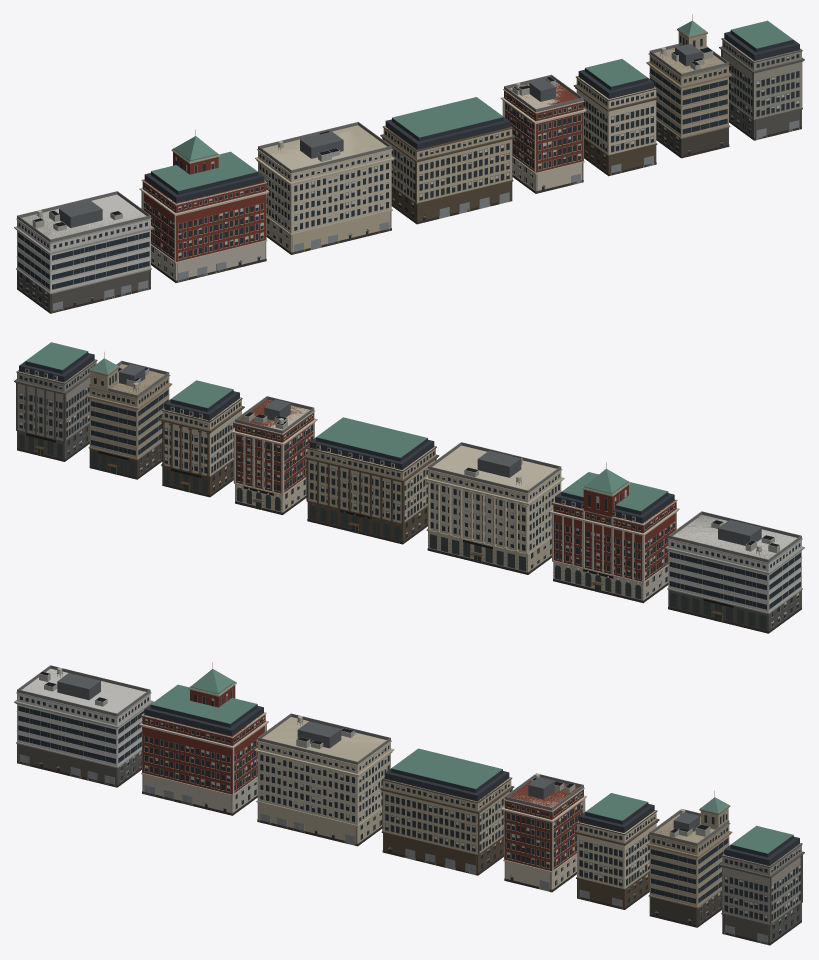
The model's file is tokei.glb.
3 views of the same model, one above another, from view 1: azimuth 30°, elevation 25°; view 2: azimuth 150°, elevation 25°; view 3: azimuth 330°, elevation 25° (orthographic).
Parts seen in each view (by area): view 1: tokei_life_body, tokei_railhq_body, tokei_post_body, tokei_chamber_body, tokei_tk_c_body, tokei_tk_d_body, tokei_tk_a_body, tokei_tk_b_body; view 2: tokei_life_body, tokei_railhq_body, tokei_post_body, tokei_chamber_body, tokei_tk_c_body, tokei_tk_a_body, tokei_tk_d_body, tokei_tk_b_body; view 3: tokei_life_body, tokei_railhq_body, tokei_chamber_body, tokei_post_body, tokei_tk_c_body, tokei_tk_d_body, tokei_tk_a_body, tokei_tk_b_body.
Boxes of the visible parts, bbox=[...] form: tokei_life_body: bbox=[255, 122, 394, 254]; tokei_railhq_body: bbox=[139, 129, 269, 282]; tokei_post_body: bbox=[14, 191, 153, 313]; tokei_chamber_body: bbox=[380, 97, 515, 224]; tokei_tk_c_body: bbox=[646, 14, 732, 158]; tokei_tk_d_body: bbox=[719, 20, 804, 140]; tokei_tk_a_body: bbox=[500, 74, 586, 193]; tokei_tk_b_body: bbox=[573, 59, 659, 176]; tokei_life_body: bbox=[424, 442, 564, 574]; tokei_railhq_body: bbox=[550, 462, 679, 603]; tokei_post_body: bbox=[665, 511, 804, 633]; tokei_chamber_body: bbox=[304, 417, 439, 544]; tokei_tk_c_body: bbox=[86, 352, 172, 479]; tokei_tk_a_body: bbox=[232, 396, 317, 514]; tokei_tk_d_body: bbox=[14, 342, 97, 461]; tokei_tk_b_body: bbox=[159, 380, 244, 497]; tokei_life_body: bbox=[254, 713, 394, 846]; tokei_railhq_body: bbox=[139, 662, 268, 815]; tokei_chamber_body: bbox=[379, 748, 514, 875]; tokei_post_body: bbox=[14, 665, 153, 787]; tokei_tk_c_body: bbox=[646, 791, 732, 927]; tokei_tk_d_body: bbox=[719, 825, 804, 945]; tokei_tk_a_body: bbox=[501, 773, 586, 892]; tokei_tk_b_body: bbox=[574, 793, 659, 909].
Bounding box in the file's own units: 302 × 47.27 × 25.6.
